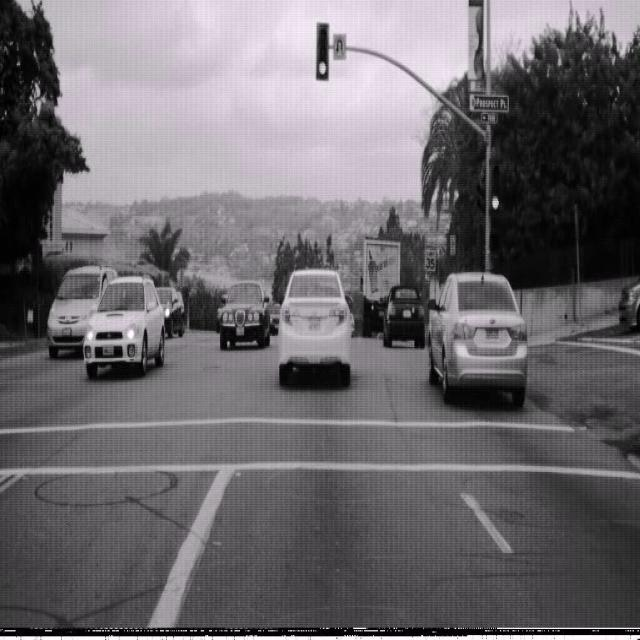speedLimit35: (423, 239, 438, 272)
